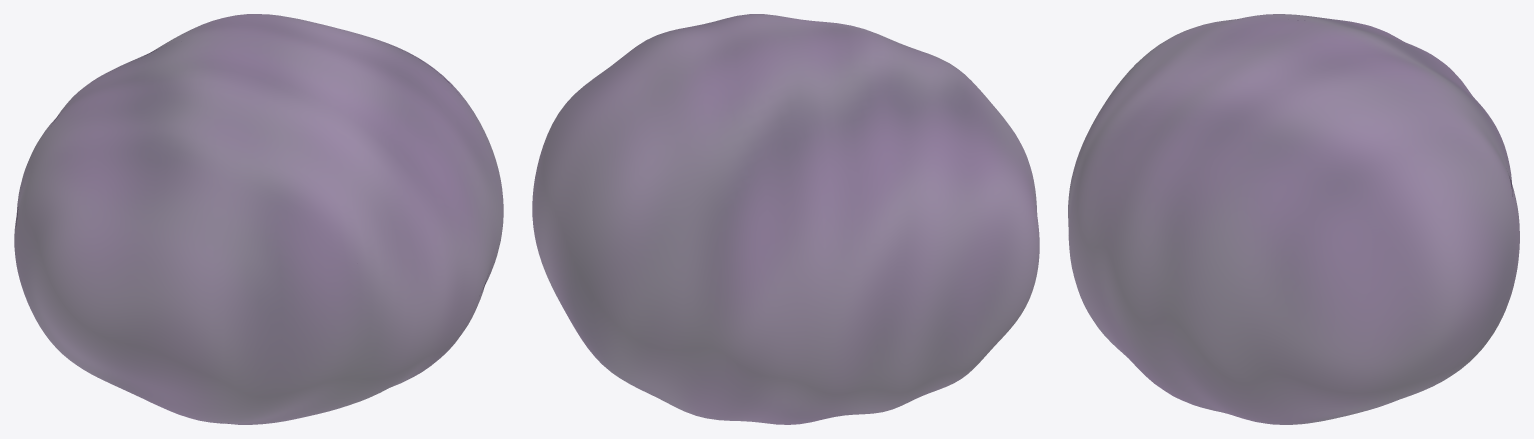
The model's file is specimen.glb.
3 views of the same model, side by side, from view 1: azimuth 30°, elevation 25°; view 2: azimuth 150°, elevation 25°; view 3: azimuth 270°, elevation 25° (orthographic). The views are drawn at different scales.
Parts seen in each view (by area): view 1: tumbled-solid; view 2: tumbled-solid; view 3: tumbled-solid.
Boxes of the visible parts, <box> form: tumbled-solid: <box>14,14,503,424</box>; tumbled-solid: <box>532,14,1039,424</box>; tumbled-solid: <box>1068,14,1519,424</box>.
Size of the model in its own units: 0.036 by 0.0276 by 0.0316.
